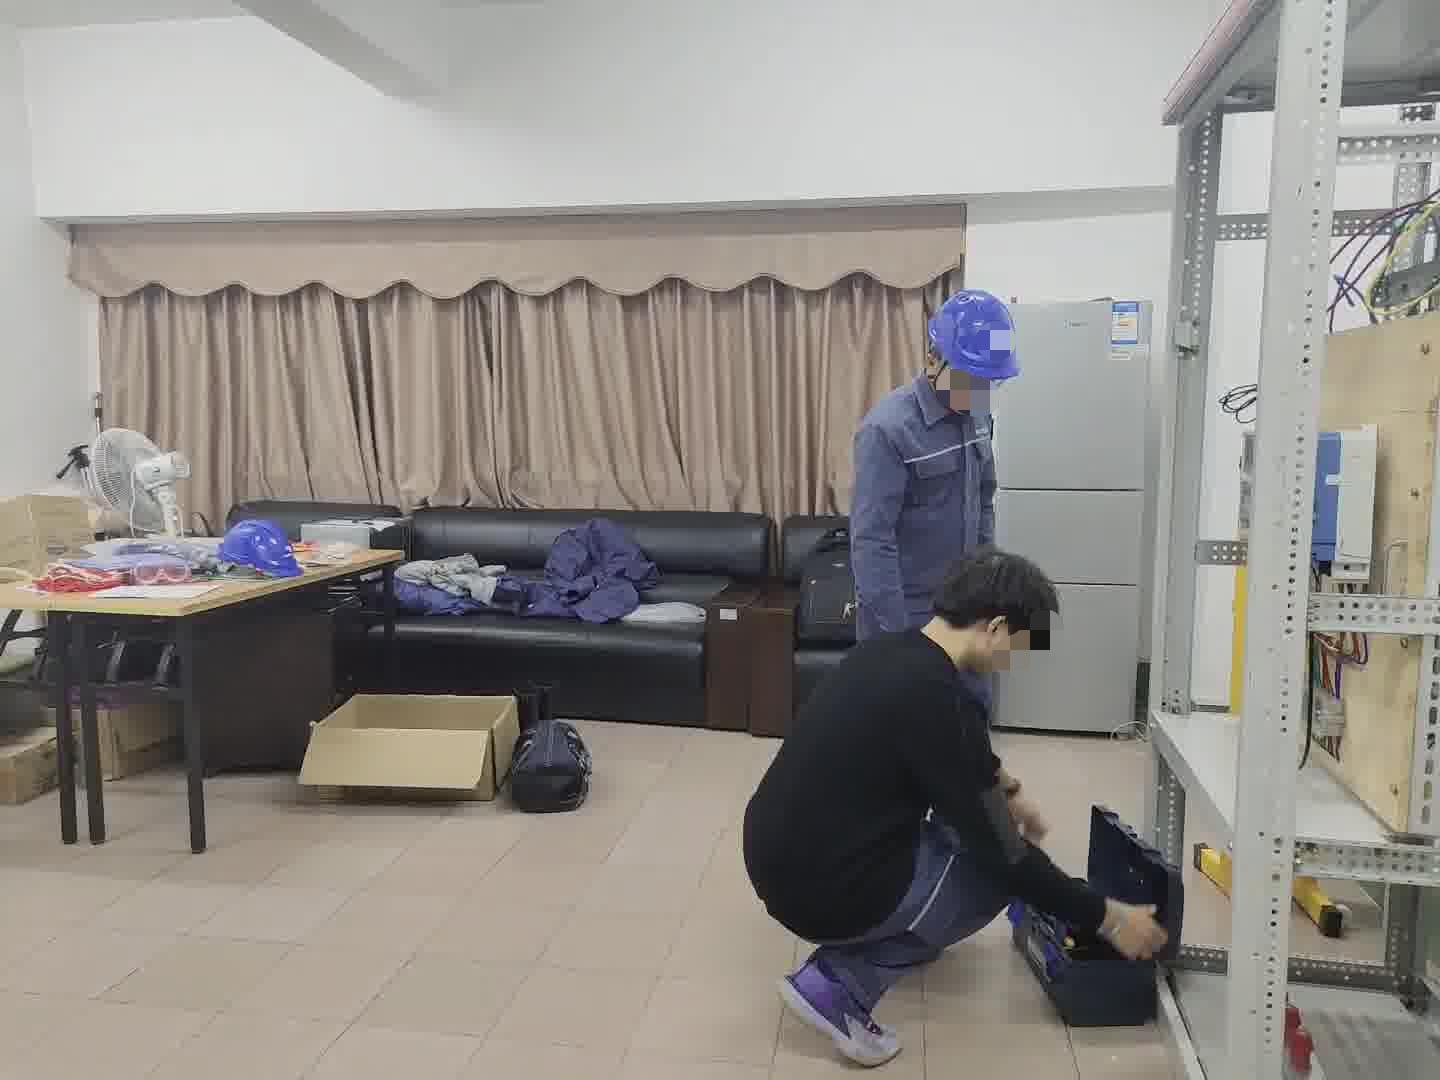halt: (927, 292, 1024, 408)
noear: (966, 611, 1027, 670)
unhalt: (929, 549, 1061, 677)
